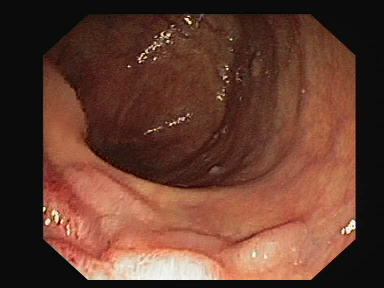polyp: (42, 147, 318, 281)
